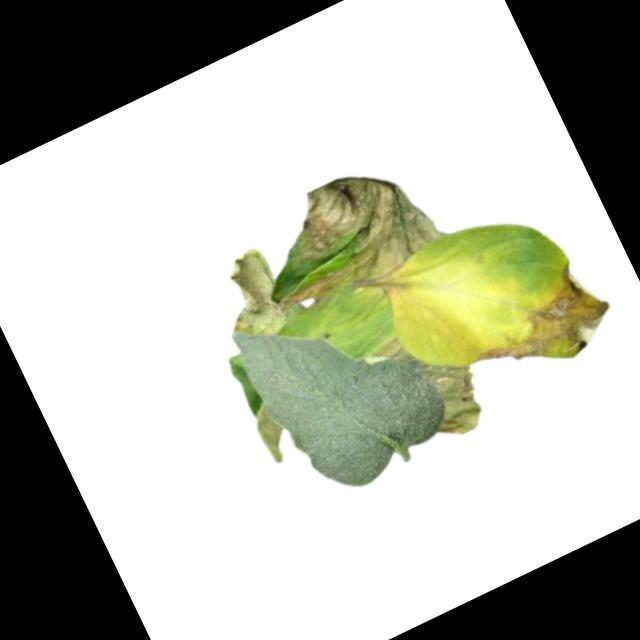Late_blight: (235, 142, 455, 327), (453, 252, 623, 395), (200, 239, 296, 350), (414, 361, 493, 445), (368, 318, 449, 395), (245, 399, 292, 466)
